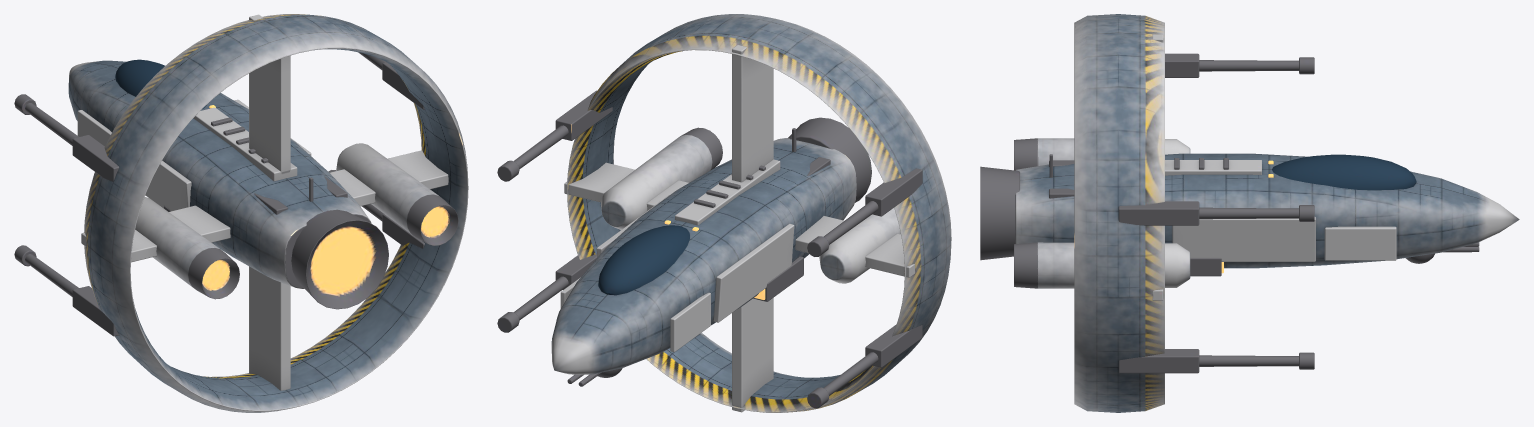
File: warden.glb
3 views of the same model, side by side, from view 1: azimuth 30°, elevation 25°; view 2: azimuth 150°, elevation 25°; view 3: azimuth 270°, elevation 25° (orthographic). The views are drawn at different scales.
Visible parts, largest first — view 1: Warden_Game; view 2: Warden_Game; view 3: Warden_Game.
Part boxes in pixels (box(x1,y1,x2,y2)): Warden_Game: box(14, 14, 468, 412); Warden_Game: box(497, 14, 951, 412); Warden_Game: box(980, 14, 1519, 412).
Bounding box in the file's own units: 8.9 × 8.9 × 12.04.
1 material, 1 textured.
